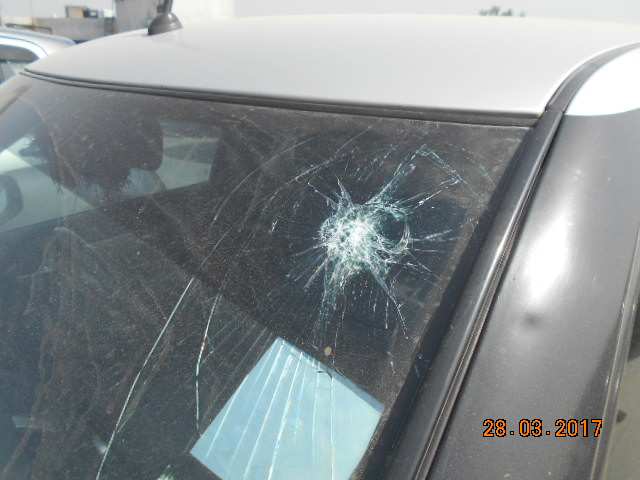Shatter: (277, 150, 440, 314)
